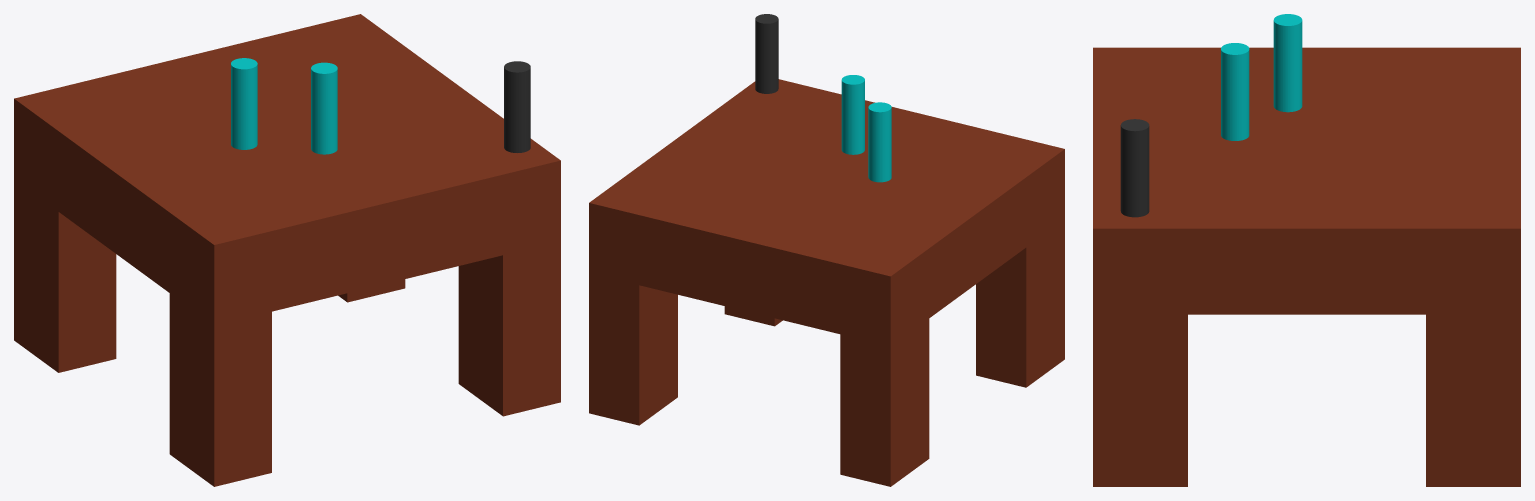
File: can_world_3_cans.dae
3 views of the same model, side by side, from view 1: azimuth 30°, elevation 25°; view 2: azimuth 150°, elevation 25°; view 3: azimuth 270°, elevation 25° (orthographic). The views are drawn at different scales.
Visible parts, largest first — view 1: base (×8); view 2: base (×7); view 3: base (×6).
Boxes of the visible parts, bbox=[...] form: base (×8): bbox=[14, 14, 560, 486]; base (×7): bbox=[589, 14, 1064, 486]; base (×6): bbox=[1093, 14, 1520, 486].
Bounding box in the file's own units: 0.9 × 0.9 × 0.811.
